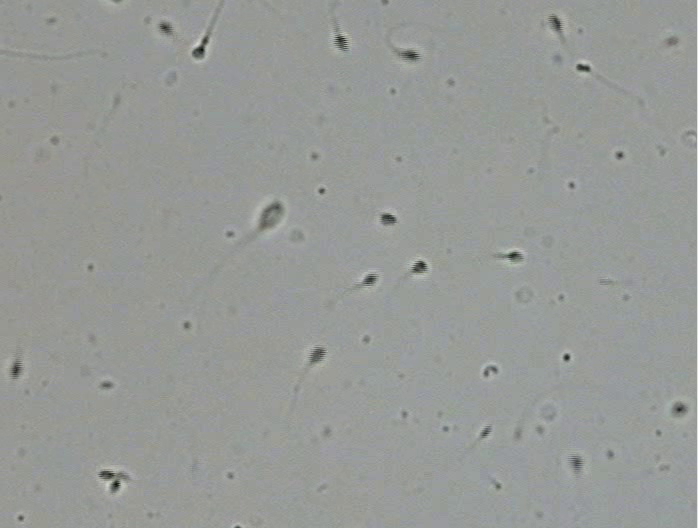S: (259, 201, 285, 230), (308, 345, 327, 364), (333, 33, 350, 51), (548, 13, 563, 31), (569, 454, 583, 473), (400, 50, 422, 61), (9, 361, 23, 378), (411, 259, 428, 273), (380, 212, 397, 226), (362, 273, 378, 287), (507, 251, 524, 263), (673, 402, 687, 416), (97, 470, 116, 480), (158, 21, 172, 34), (192, 45, 205, 59), (109, 480, 121, 493), (576, 64, 591, 73)
